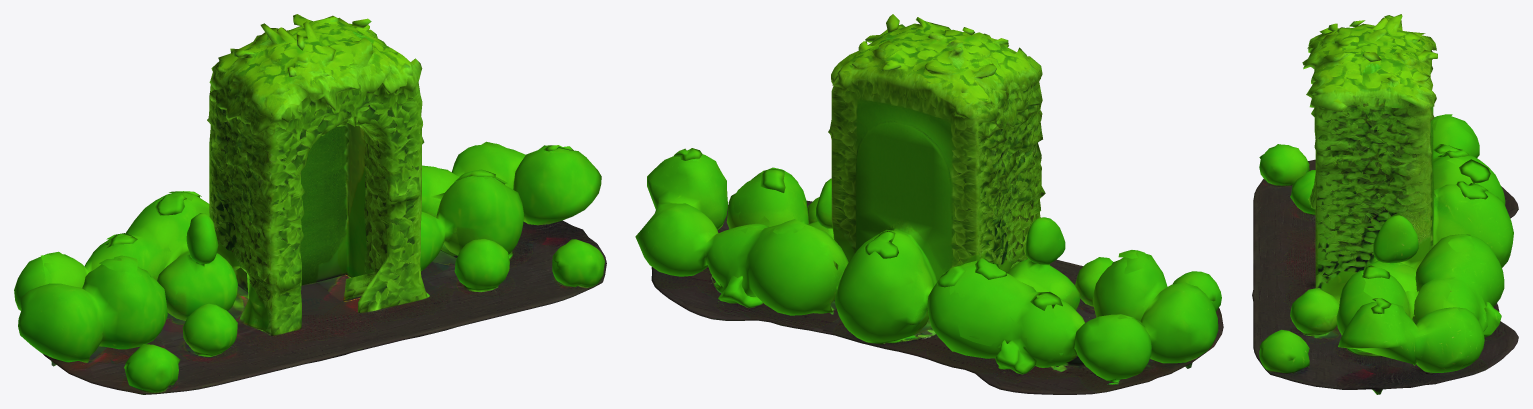
File: hedge_arch_gap.glb
3 renders of one model, left to right at view 1: azimuth 30°, elevation 25°; view 2: azimuth 150°, elevation 25°; view 3: azimuth 270°, elevation 25°, orthographic. The views are drawn at different scales.
Size of the model in its own units: 1.9 by 0.8885 by 0.8532.
Materials: 1 (1 with a texture image).
